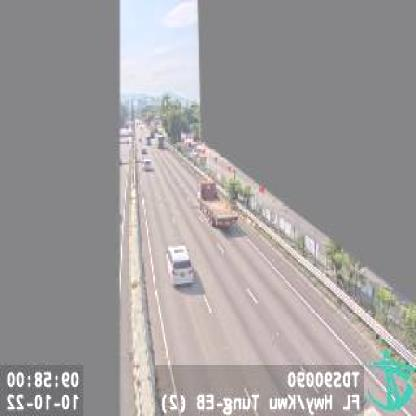Car: (166, 244, 193, 290), (144, 159, 154, 171)
Truck: (199, 179, 236, 231)
